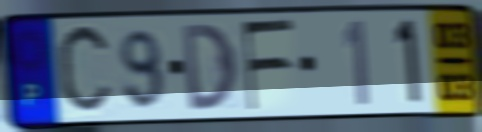1: (392, 17, 424, 106), (341, 17, 370, 109)
9: (116, 26, 168, 112)
C: (54, 19, 115, 121)
D: (179, 21, 240, 114)
F: (239, 16, 297, 114)
